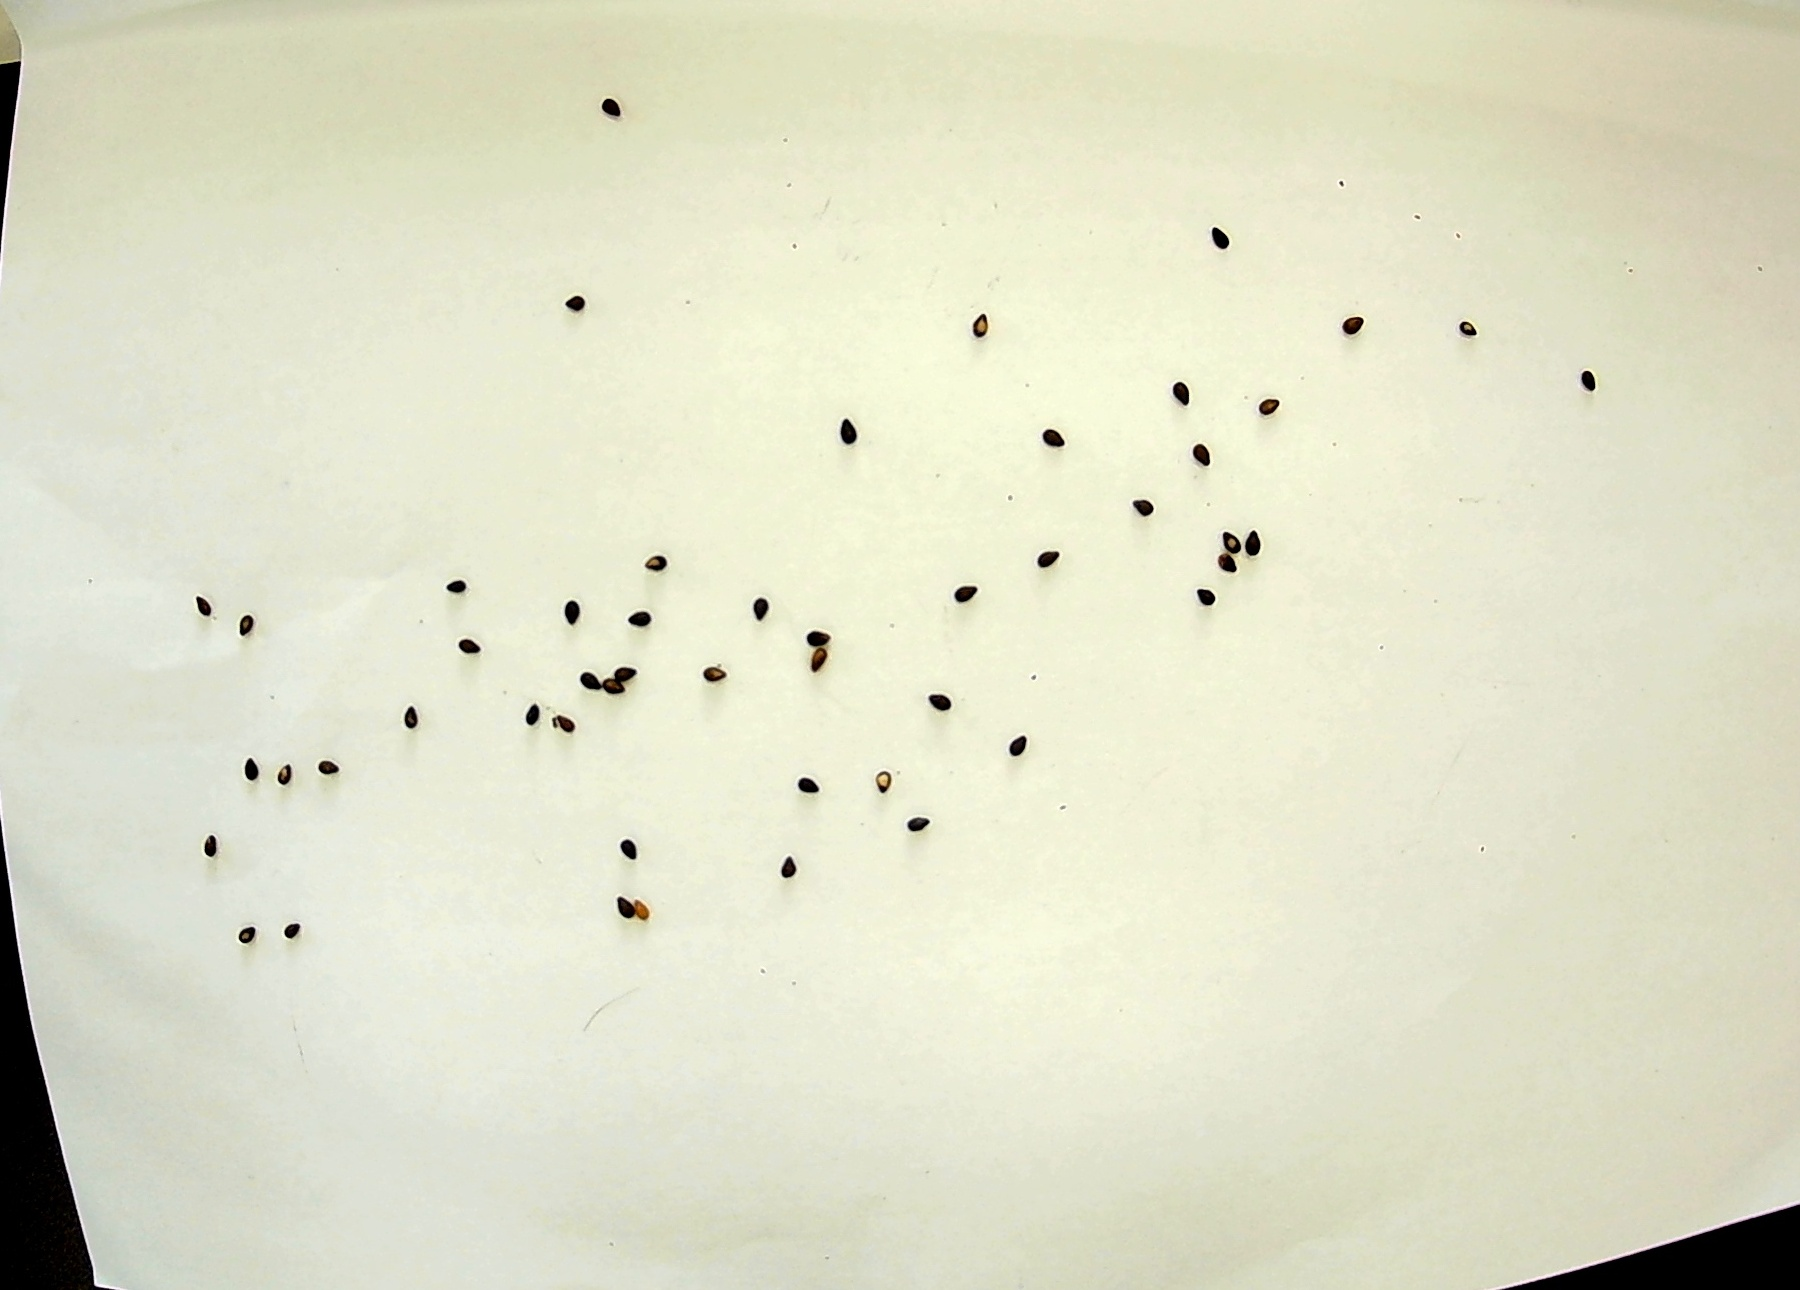sesami: (1162, 373, 1206, 415), (282, 912, 320, 954), (589, 92, 639, 121), (315, 750, 357, 785), (554, 290, 592, 327), (610, 833, 652, 866), (773, 852, 809, 888), (632, 891, 668, 927), (1335, 309, 1380, 338), (608, 884, 632, 935), (961, 309, 996, 343), (1035, 539, 1070, 572), (551, 706, 585, 741), (399, 699, 433, 734), (1194, 222, 1238, 249), (638, 544, 677, 574), (1192, 438, 1224, 473), (442, 570, 474, 605), (1200, 547, 1238, 577), (239, 919, 268, 956), (451, 630, 488, 658), (924, 690, 959, 719), (188, 586, 216, 623), (200, 831, 226, 868), (1240, 524, 1264, 565), (834, 410, 862, 445), (1250, 388, 1287, 415), (751, 593, 777, 630), (597, 676, 638, 699), (1192, 581, 1224, 610), (954, 579, 984, 611), (239, 751, 264, 787), (1134, 496, 1162, 528), (276, 750, 297, 792), (899, 818, 938, 840), (1573, 360, 1599, 392), (800, 646, 834, 670), (699, 660, 734, 684), (1453, 311, 1478, 343), (1000, 732, 1035, 754), (1037, 424, 1070, 447), (797, 627, 834, 646), (795, 771, 825, 796), (620, 607, 657, 627), (580, 665, 601, 699), (557, 603, 589, 625), (614, 653, 642, 679), (868, 769, 893, 794), (234, 614, 261, 638), (526, 699, 548, 727), (1220, 533, 1239, 554)
